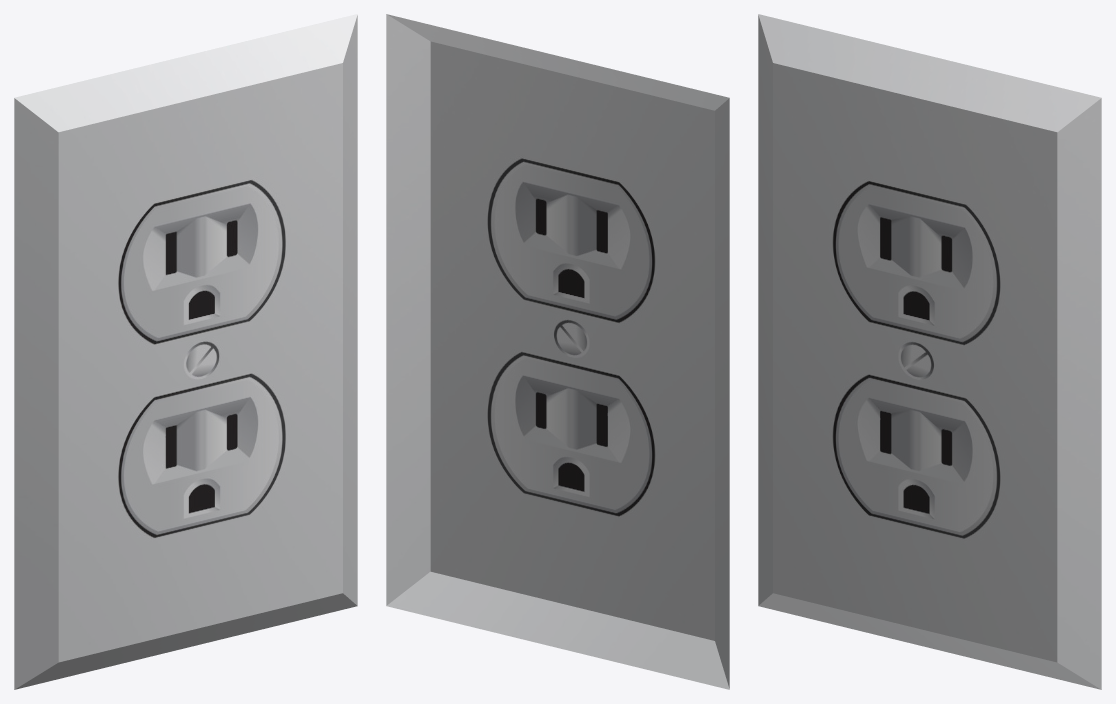
The model's file is Electrical Outlet.FBX.
The picture shows the model from 3 angles, left to right: view 1: azimuth 30°, elevation 25°; view 2: azimuth 150°, elevation 25°; view 3: azimuth 330°, elevation 25°; orthographic projection.
Parts seen in each view (by area): view 1: Outlet; view 2: Outlet; view 3: Outlet.
Boxes of the visible parts, bbox=[...] form: Outlet: bbox=[14, 14, 357, 689]; Outlet: bbox=[386, 14, 729, 689]; Outlet: bbox=[758, 14, 1101, 689].
Bounding box in the file's own units: 4.36 × 7.18 × 0.3238.
1 material, 1 textured.
